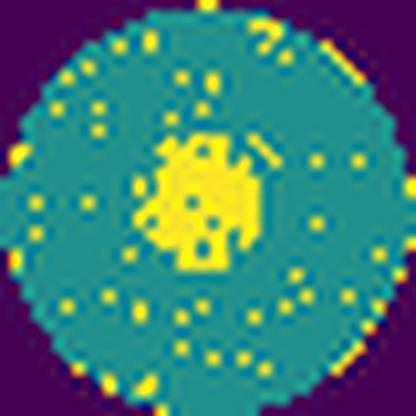Center: (129, 131, 263, 275)
